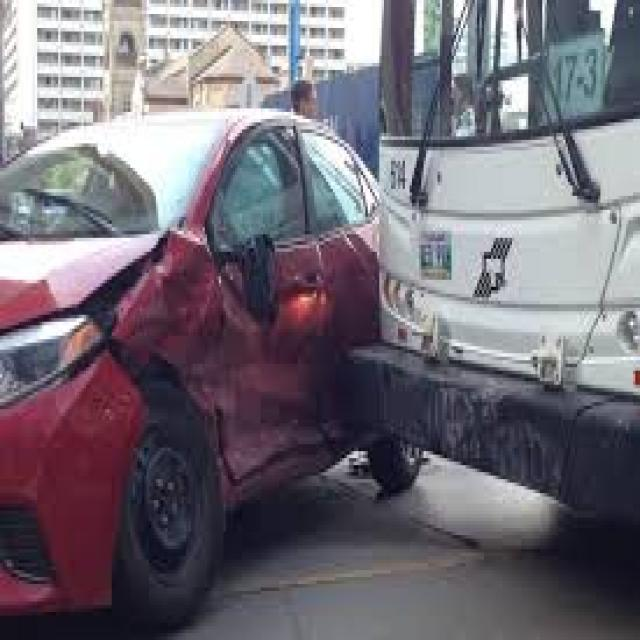moderate: (11, 112, 368, 580)
